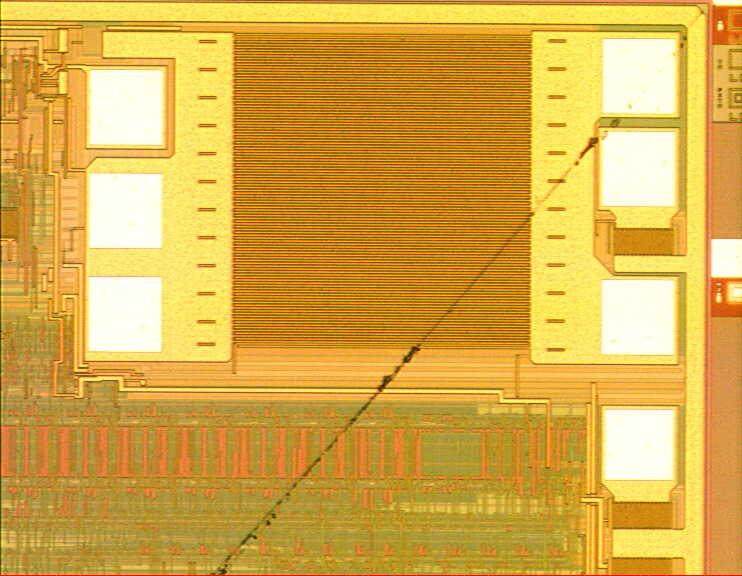SCRATCH: (208, 3, 712, 576)
